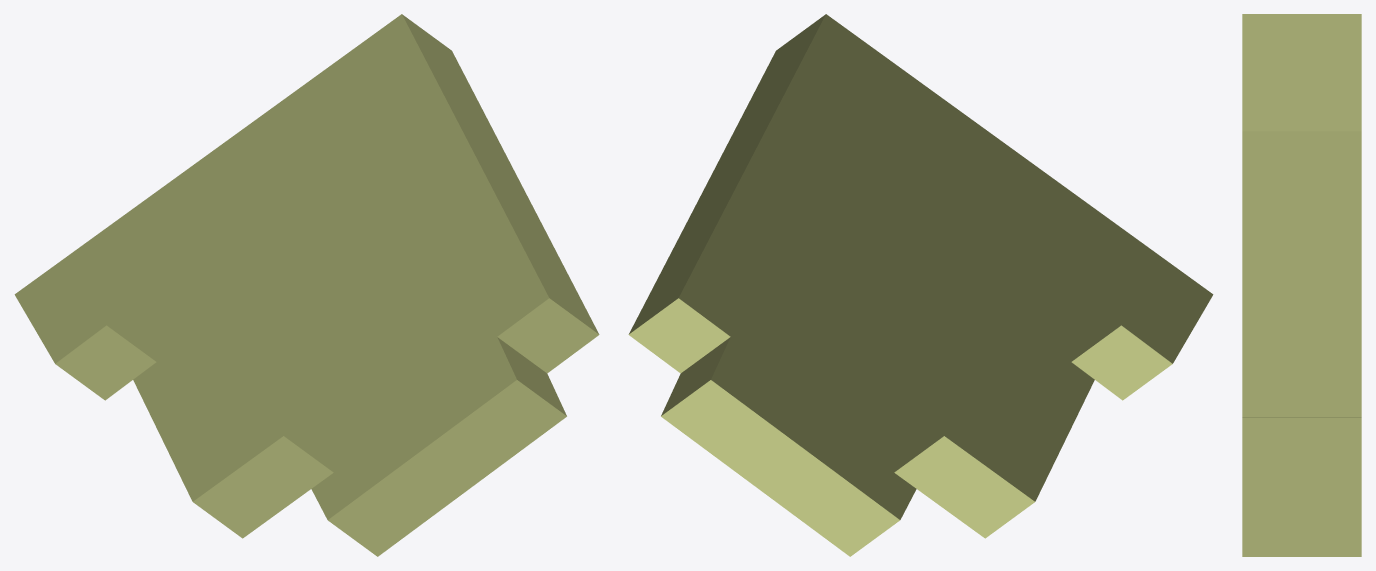
3 views of the same model, side by side, from view 1: azimuth 30°, elevation 25°; view 2: azimuth 150°, elevation 25°; view 3: azimuth 270°, elevation 25° (orthographic). The views are drawn at different scales.
Visible parts, largest first — view 1: 0_1_1_3_2_1_3_3_3; view 2: 0_1_1_3_2_1_3_3_3; view 3: 0_1_1_3_2_1_3_3_3.
Boxes of the visible parts, x1,y1,x2,y2 form: 0_1_1_3_2_1_3_3_3: (14,14,599,556); 0_1_1_3_2_1_3_3_3: (628,14,1213,556); 0_1_1_3_2_1_3_3_3: (1242,14,1361,556).
Size of the model in its own units: 36.97 by 32.24 by 6.
